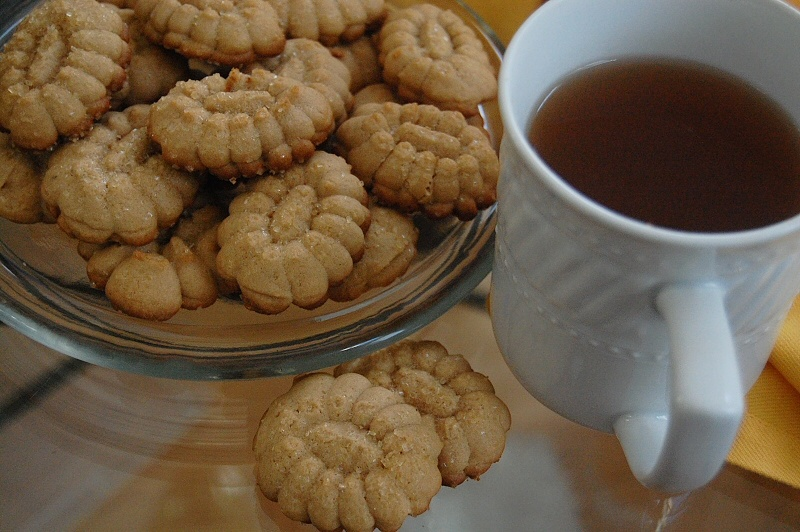background: (0, 0, 625, 269), (315, 161, 639, 441)
